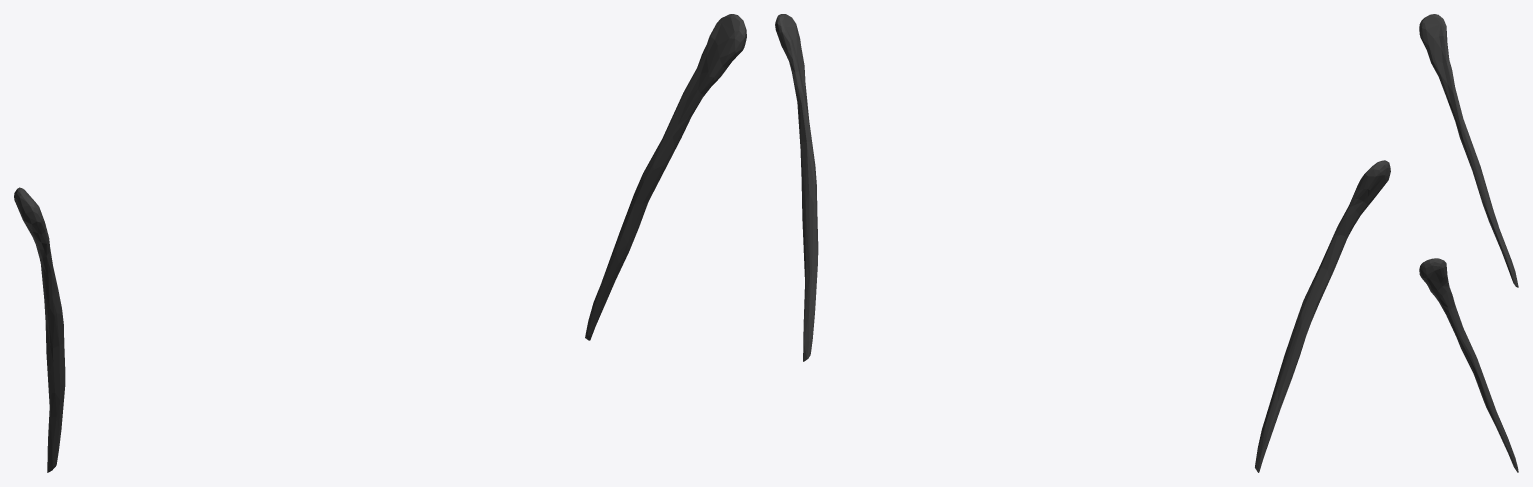
Rendered from skel_fibula.glb.
The picture shows the model from 3 angles, left to right: view 1: azimuth 30°, elevation 25°; view 2: azimuth 150°, elevation 25°; view 3: azimuth 270°, elevation 25°; orthographic projection. The views are drawn at different scales.
Visible parts, largest first — view 1: skel_fibula; view 2: skel_fibula; view 3: skel_fibula.
Part boxes in pixels (box(x1,y1,x2,y2)): skel_fibula: box(14, 14, 746, 472); skel_fibula: box(775, 14, 1390, 472); skel_fibula: box(1419, 14, 1518, 472).
Size of the model in its own units: 0.0072 by 0.0033 by 0.00122.
1 material, 1 textured.
